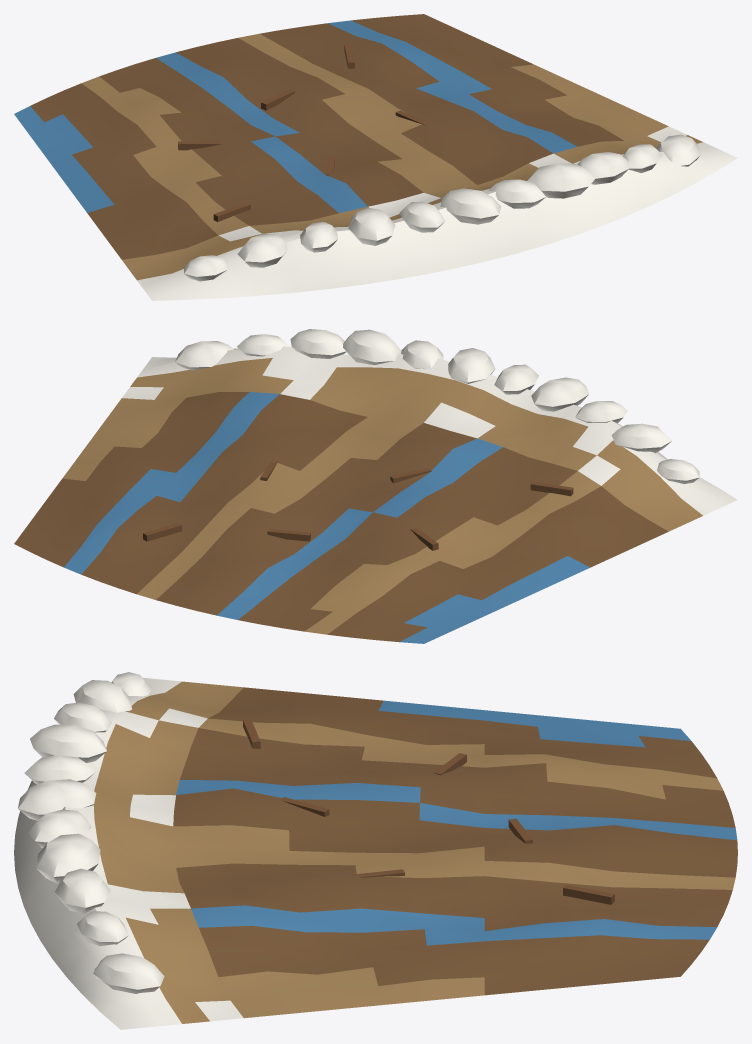
File: river_surge.glb
3 renders of one model, top to bottom at view 1: azimuth 30°, elevation 25°; view 2: azimuth 150°, elevation 25°; view 3: azimuth 270°, elevation 25°, orthographic. The views are drawn at different scales.
Visible parts, largest first — view 1: body; view 2: body; view 3: body.
Boxes of the visible parts, <box> form: body: <box>14,14,737,300</box>; body: <box>14,329,737,643</box>; body: <box>14,672,737,1029</box>.
Size of the model in its own units: 220 by 19.88 by 190.
